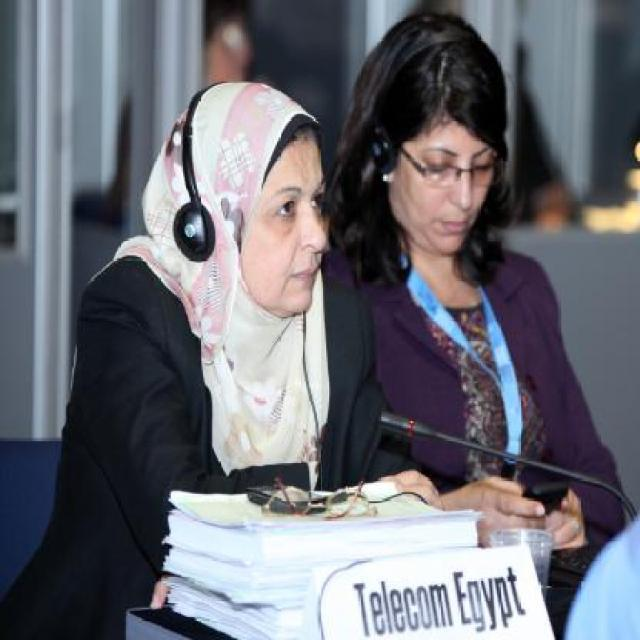earphone: (146, 65, 222, 267), (365, 110, 397, 187)
